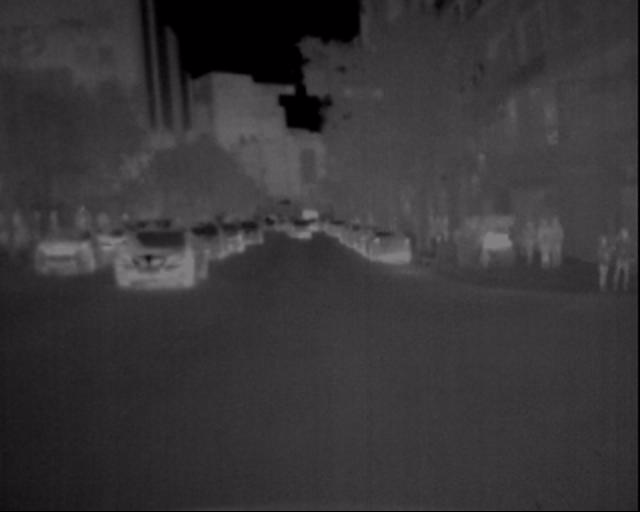person: (606, 216, 640, 297), (591, 228, 624, 298), (532, 213, 557, 271), (546, 211, 568, 272), (516, 213, 539, 269)
